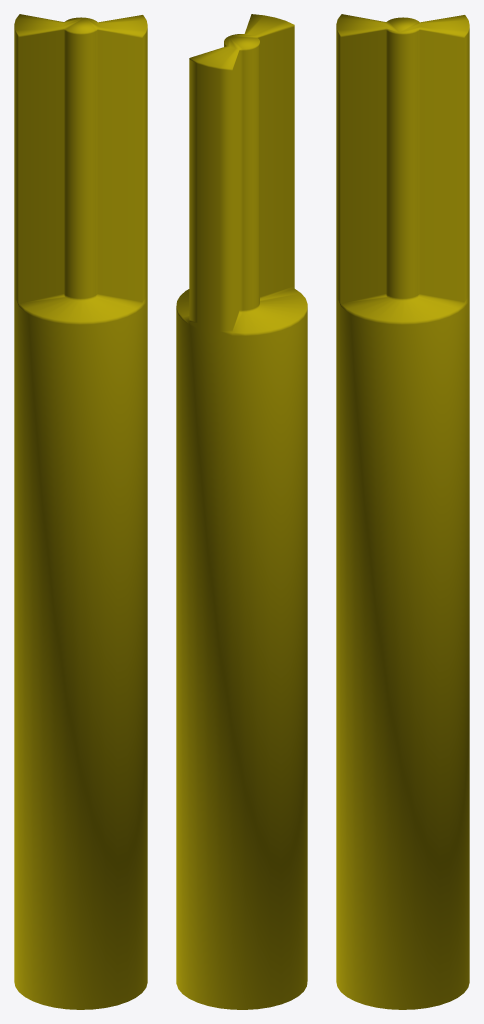
File: SpinningPlatform.fbx
3 views of the same model, side by side, from view 1: azimuth 90°, elevation 25°; view 2: azimuth 150°, elevation 25°; view 3: azimuth 270°, elevation 25° (orthographic).
Visible parts, largest first — view 1: SpinningPlatform; view 2: SpinningPlatform; view 3: SpinningPlatform.
Part boxes in pixels (box(x1,y1,x2,y2)): SpinningPlatform: box(14, 14, 147, 1009); SpinningPlatform: box(176, 14, 307, 1009); SpinningPlatform: box(336, 14, 469, 1009).
Bounding box in the file's own units: 416 × 3288 × 416.
